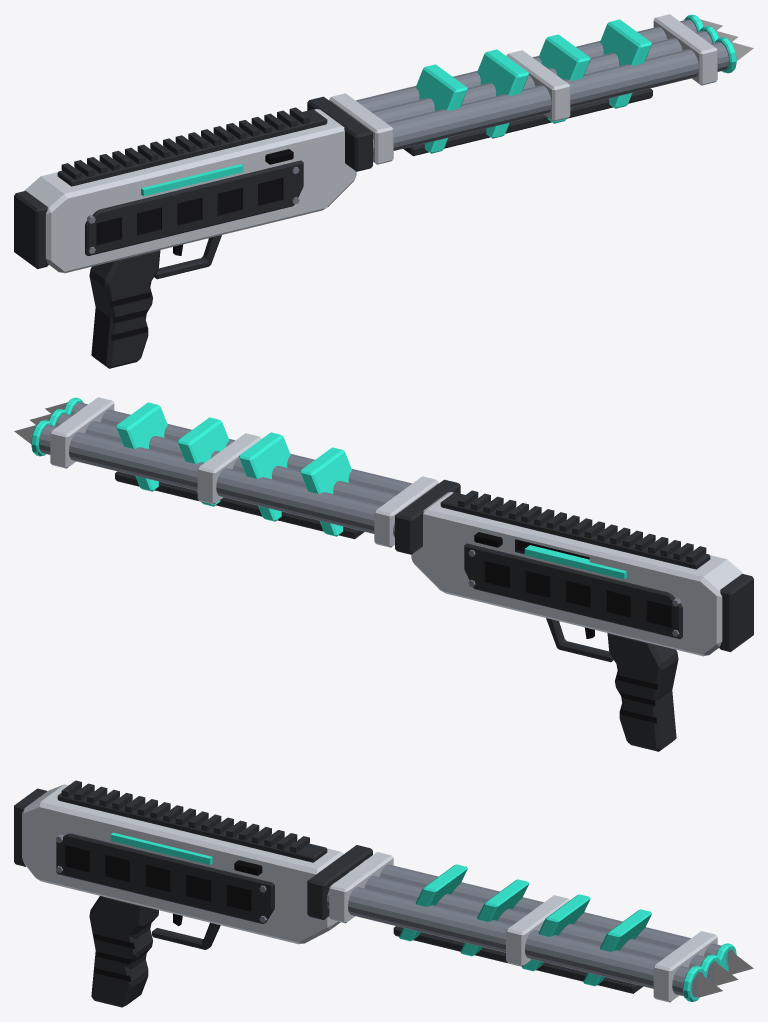
The model's file is gauss_shotgun42.obj.
The picture shows the model from 3 angles, top to bottom: view 1: azimuth 30°, elevation 25°; view 2: azimuth 150°, elevation 25°; view 3: azimuth 330°, elevation 25°; orthographic projection.
Parts seen in each view (by area): view 1: body, barrel; view 2: body, barrel; view 3: body, barrel.
Part boxes in pixels (x1,y1,x2,y2): body: [14, 19, 652, 368]; barrel: [307, 14, 736, 171]; body: [115, 402, 753, 751]; barrel: [31, 397, 460, 554]; body: [14, 780, 651, 1007]; barrel: [307, 845, 736, 1002].
Bounding box in the file's own units: 0.62 × 0.168 × 0.0748.
